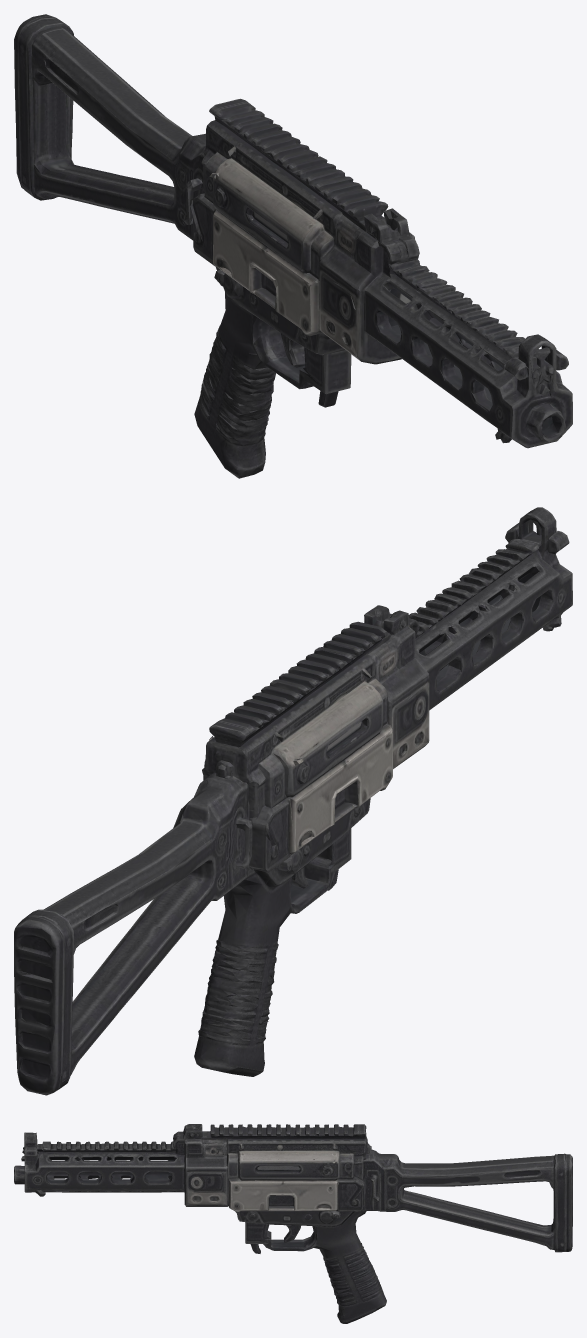
File: compact_carbine.high.glb
3 renders of one model, top to bottom at view 1: azimuth 30°, elevation 25°; view 2: azimuth 150°, elevation 25°; view 3: azimuth 270°, elevation 25°, orthographic. The views are drawn at different scales.
Visible parts, largest first — view 1: model; view 2: model; view 3: model.
Boxes of the visible parts, x1,y1,x2,y2 form: model: [14, 14, 572, 478]; model: [14, 507, 572, 1095]; model: [14, 1124, 572, 1323].
Bounding box in the file's own units: 0.0694 × 0.254 × 0.66.
1 material, 1 textured.
